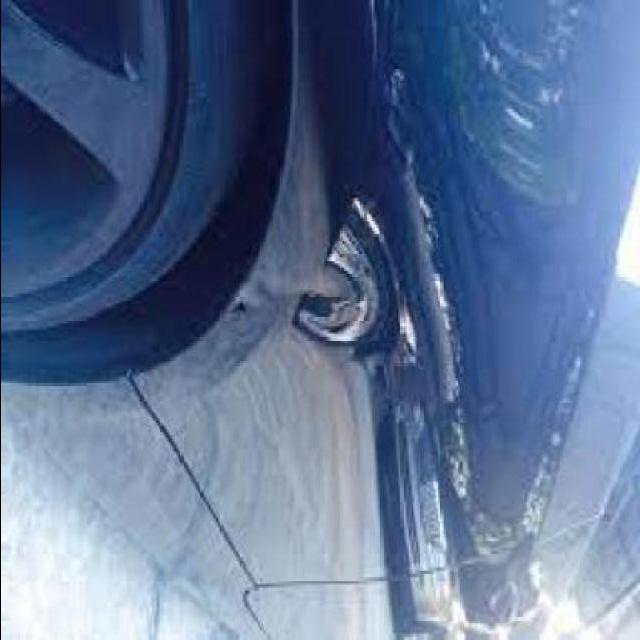quaterpanel-dent: (116, 3, 635, 547)
